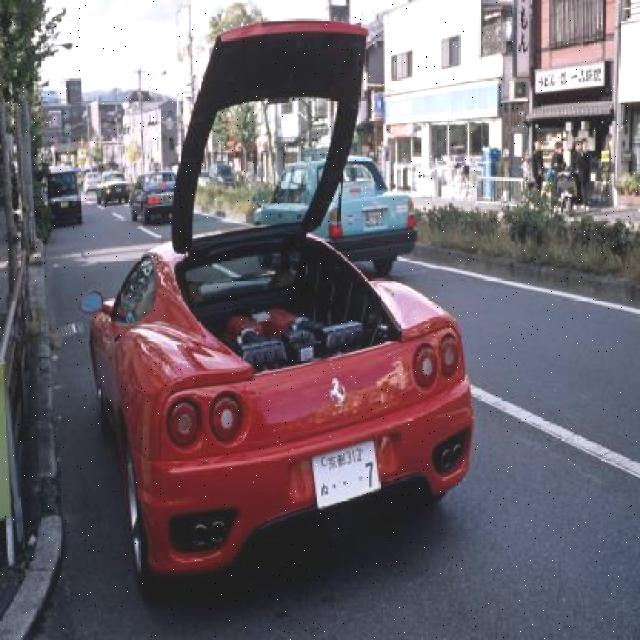license_plate: (312, 438, 381, 511), (367, 214, 385, 228)
